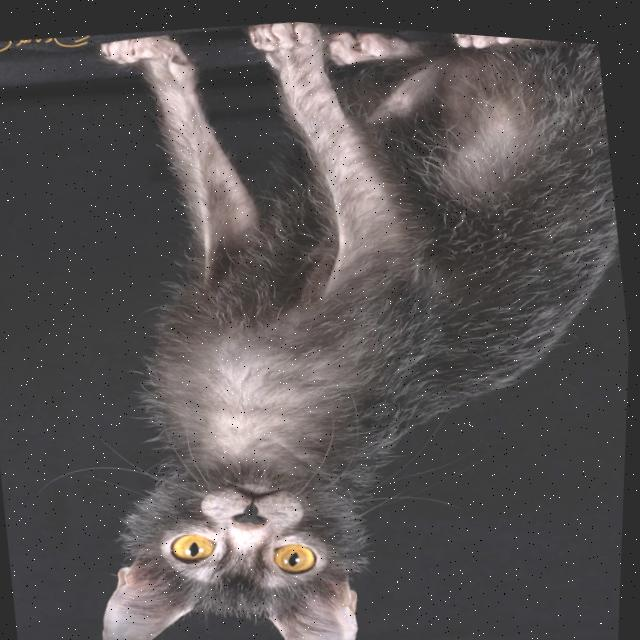Lykoi: (16, 2, 640, 640)
